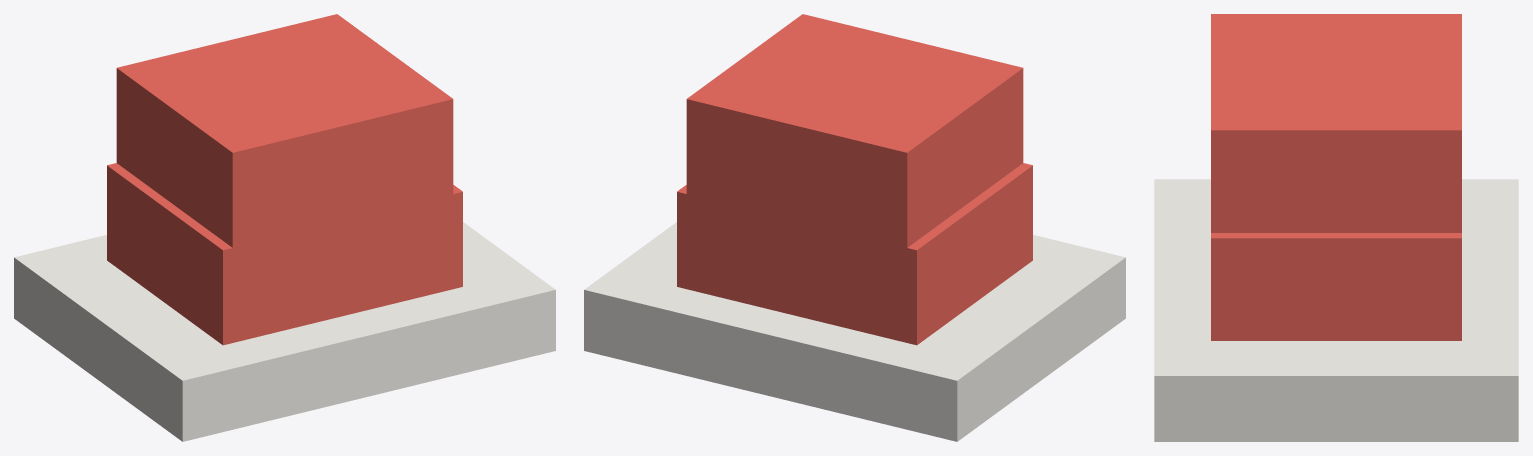
File: training_corner-lv2.glb
3 renders of one model, left to right at view 1: azimuth 30°, elevation 25°; view 2: azimuth 150°, elevation 25°; view 3: azimuth 270°, elevation 25°, orthographic. The views are drawn at different scales.
Visible parts, largest first — view 1: Level2, Base, Level1; view 2: Level2, Base, Level1; view 3: Base, Level2, Level1.
Part boxes in pixels (x1,y1,x2,y2): Level2: [116, 14, 453, 247]; Base: [14, 222, 555, 441]; Level1: [107, 163, 462, 345]; Level2: [686, 14, 1023, 247]; Base: [584, 222, 1125, 441]; Level1: [677, 163, 1032, 345]; Base: [1154, 179, 1518, 441]; Level2: [1211, 14, 1461, 232]; Level1: [1211, 233, 1461, 340].
Bounding box in the file's own units: 1.15 × 0.74 × 0.9.
